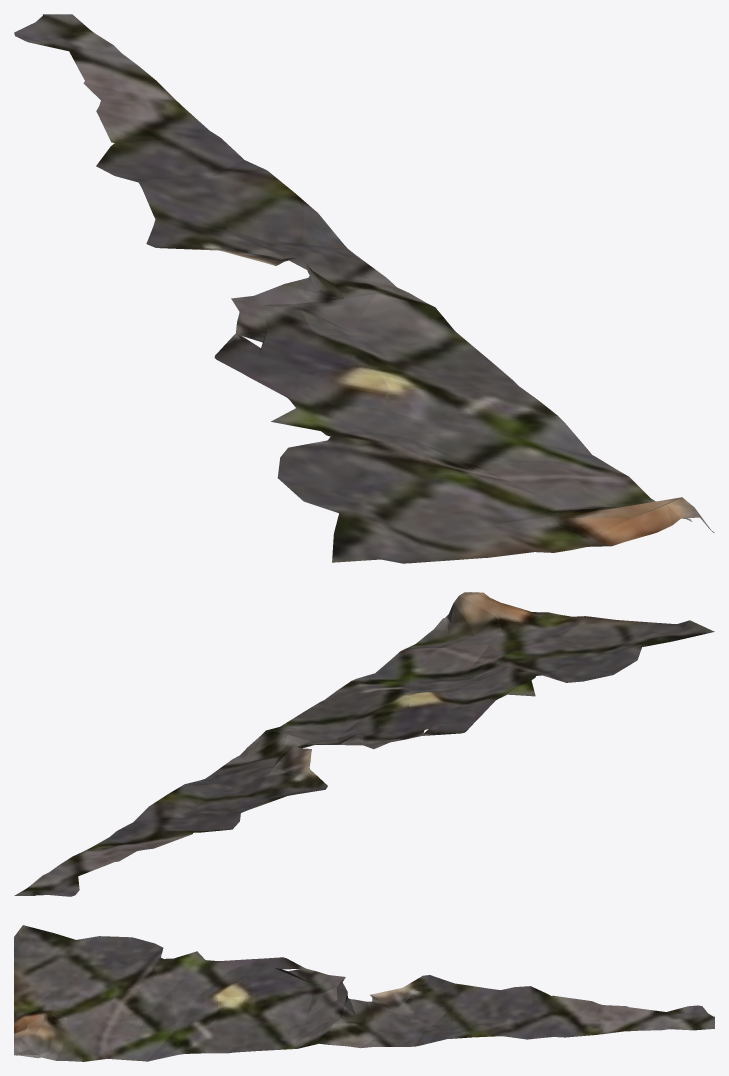
The picture shows the model from 3 angles, top to bottom: view 1: azimuth 30°, elevation 25°; view 2: azimuth 150°, elevation 25°; view 3: azimuth 270°, elevation 25°; orthographic projection. The views are drawn at different scales.
Bounding box in the file's own units: 0.282 × 0.0489 × 0.8373.
Materials: 1 (1 with a texture image).
